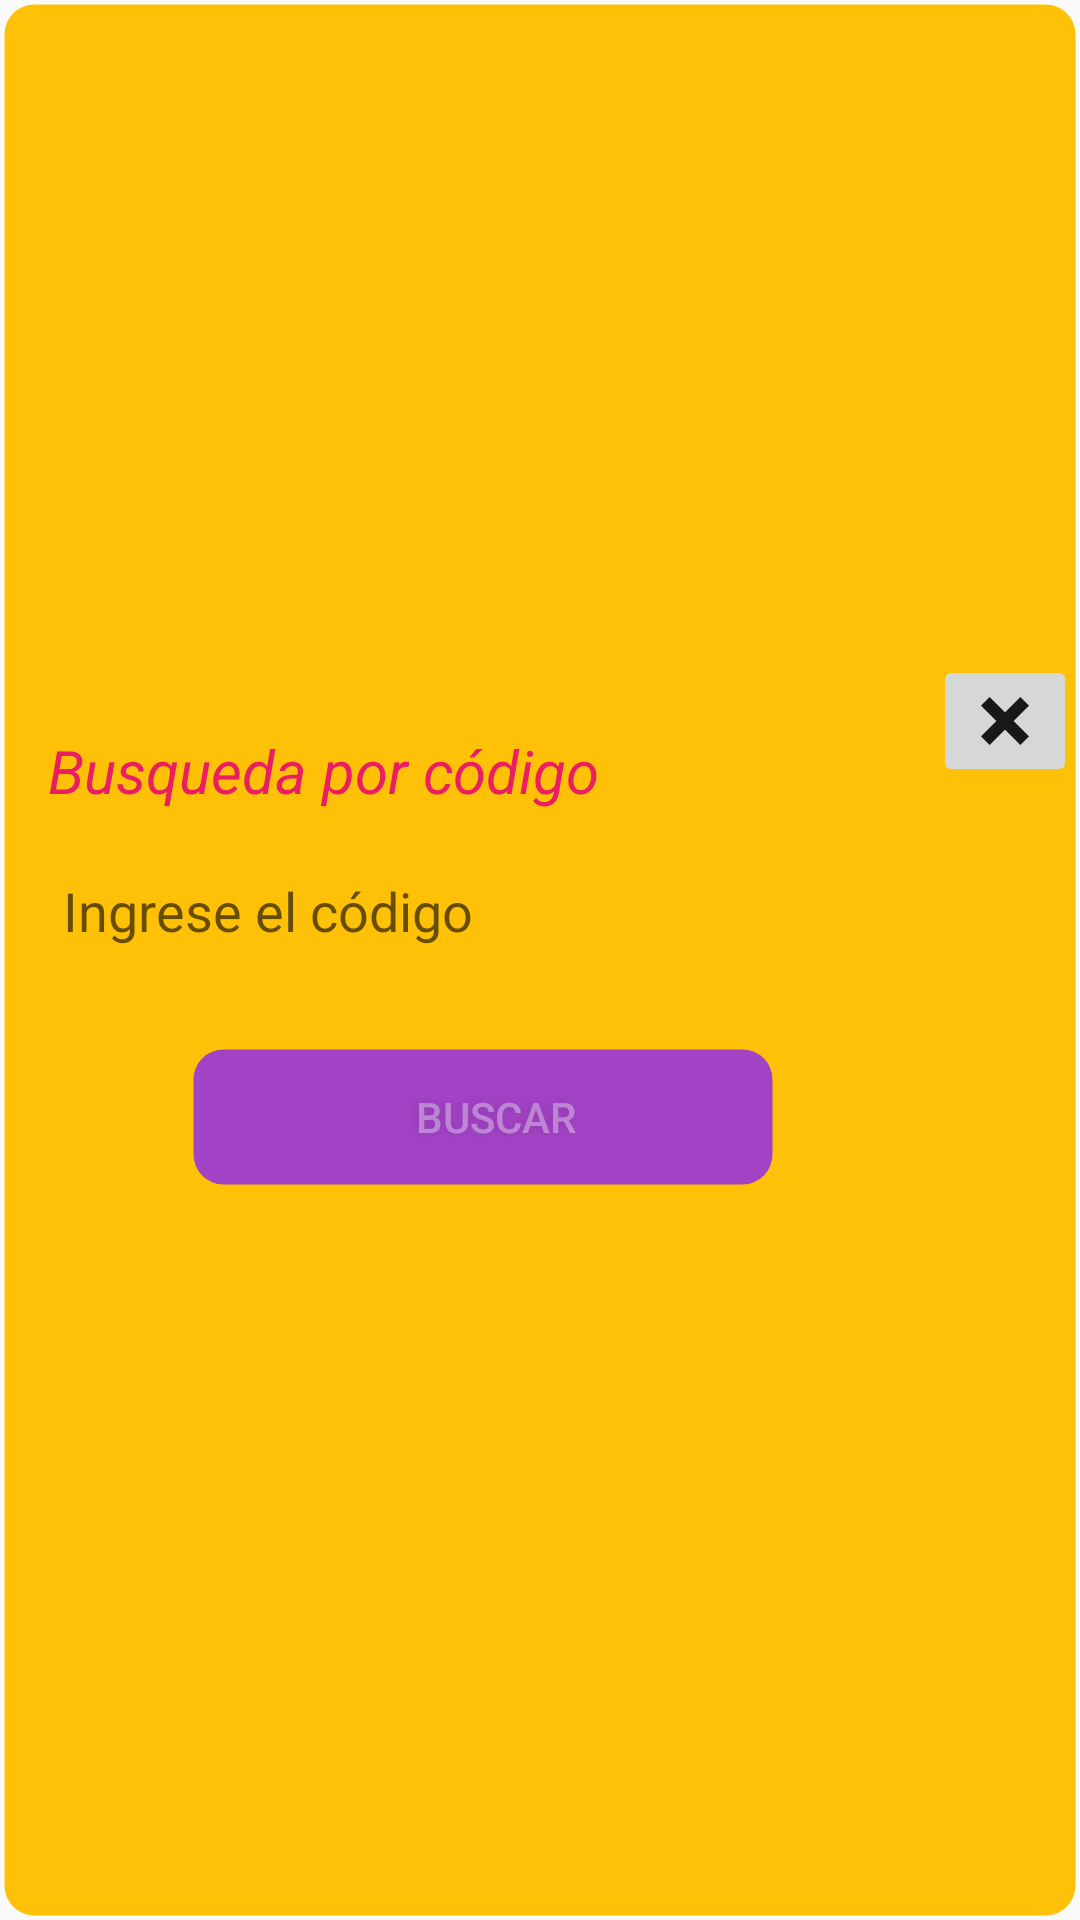

Point at icon controls on the screen. Image size 1080 × 1920, points as [x,y].
cerrar: [1005,721]
